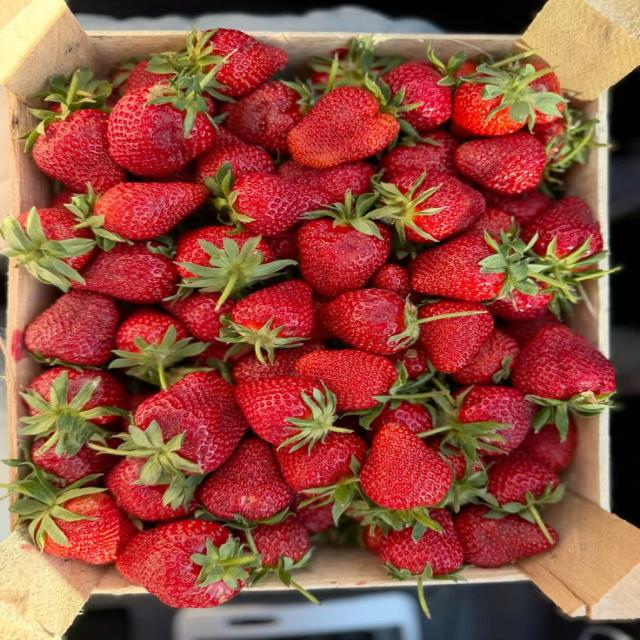strawberry: (319, 289, 493, 367), (7, 464, 135, 564), (26, 70, 126, 193), (117, 519, 256, 607), (512, 325, 615, 439), (135, 372, 246, 472), (423, 380, 534, 471), (174, 226, 293, 310), (298, 192, 391, 298), (107, 85, 214, 176), (149, 29, 287, 98), (287, 87, 401, 168), (452, 55, 566, 136), (377, 509, 463, 616), (208, 164, 330, 236), (409, 233, 538, 301), (276, 433, 367, 524), (372, 170, 485, 242), (360, 423, 452, 510), (0, 208, 94, 291), (110, 307, 206, 388), (220, 280, 314, 362), (199, 438, 293, 520), (235, 378, 345, 447), (25, 291, 119, 365), (486, 455, 563, 542), (245, 516, 319, 604), (319, 289, 419, 354), (26, 366, 129, 429), (74, 242, 178, 304), (94, 183, 207, 240), (454, 505, 557, 567), (296, 350, 397, 411), (222, 82, 305, 155), (203, 29, 287, 97), (455, 132, 546, 194), (106, 458, 195, 521), (418, 301, 493, 373), (533, 109, 596, 193), (276, 433, 367, 491), (459, 387, 534, 456), (381, 62, 452, 133), (522, 197, 602, 260), (310, 36, 403, 89), (428, 438, 486, 512), (277, 160, 375, 203), (197, 128, 274, 182), (31, 438, 118, 485), (379, 130, 459, 181), (175, 226, 255, 277), (232, 342, 324, 384), (487, 455, 559, 506), (453, 329, 519, 384), (162, 291, 233, 341), (517, 418, 577, 472), (116, 307, 189, 351), (251, 517, 310, 567), (500, 309, 560, 347), (486, 191, 551, 225), (370, 400, 433, 434), (488, 291, 552, 321), (427, 437, 469, 481), (121, 61, 174, 94), (122, 61, 173, 94), (390, 344, 429, 379), (370, 264, 410, 298), (140, 161, 198, 183), (467, 209, 513, 236), (190, 341, 237, 366), (294, 503, 333, 533), (310, 296, 332, 343), (268, 228, 299, 260), (532, 119, 566, 147), (534, 102, 566, 125), (361, 526, 383, 553), (49, 188, 74, 210)
